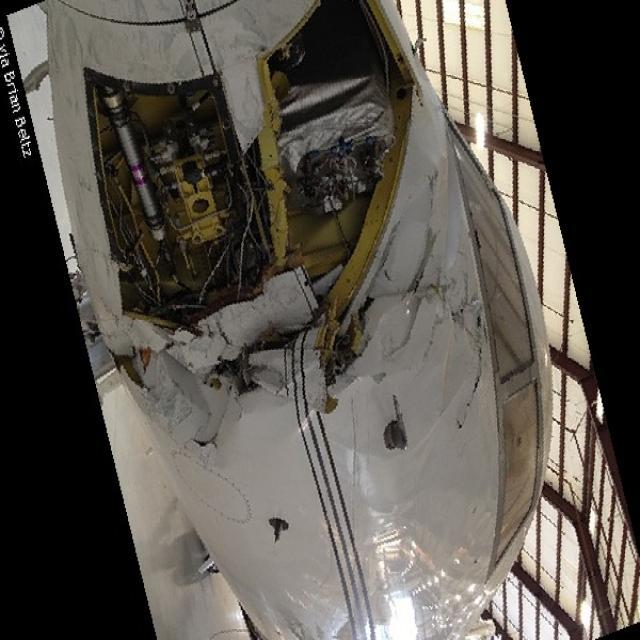crack: (451, 344, 488, 430), (189, 390, 240, 452)
